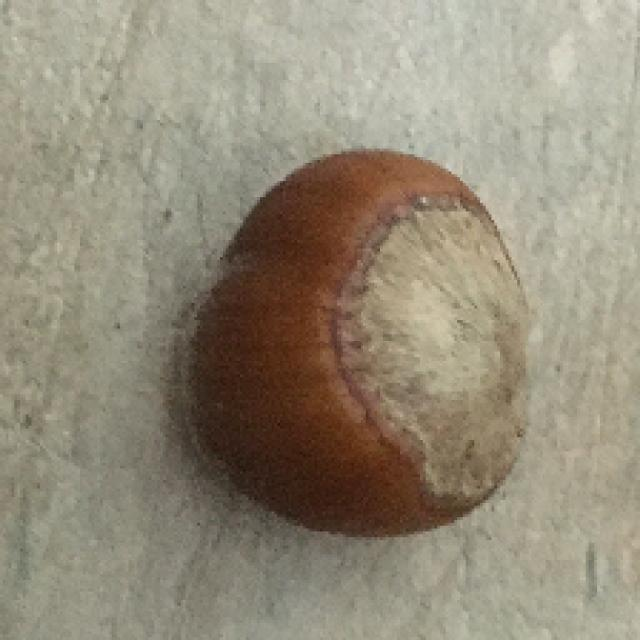qualityHazelnut: (183, 138, 546, 536)
